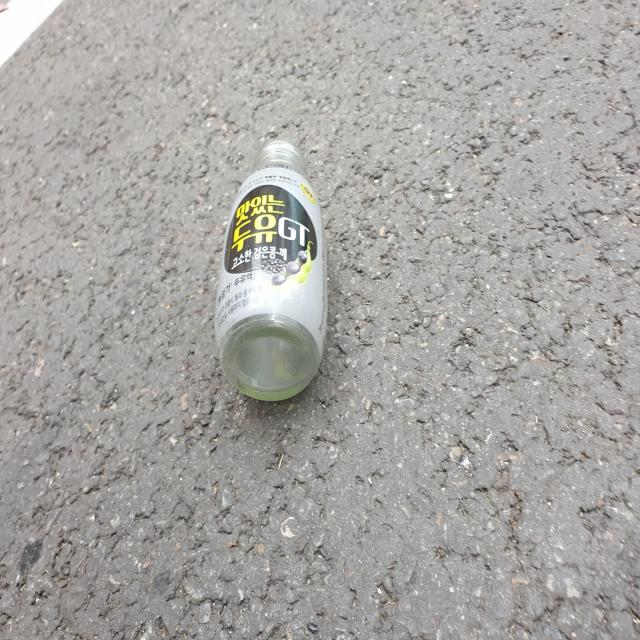glass: (215, 138, 327, 401)
